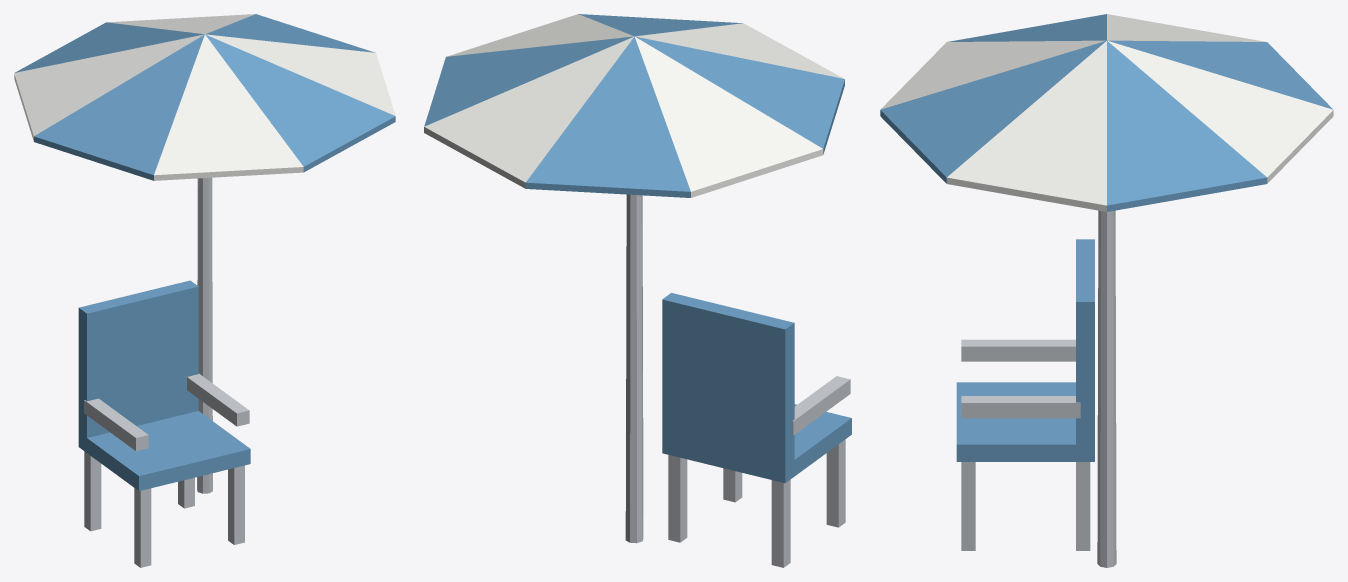
Rendered from tennis-club-and-courts-players-chair-and-parasol-839ac365__33630.glb.
3 renders of one model, left to right at view 1: azimuth 30°, elevation 25°; view 2: azimuth 150°, elevation 25°; view 3: azimuth 270°, elevation 25°, orthographic. The views are drawn at different scales.
Parts seen in each view (by area): view 1: players-chair-and-parasol; view 2: players-chair-and-parasol; view 3: players-chair-and-parasol.
Part boxes in pixels (x1=…): players-chair-and-parasol: x1=14, y1=14, x2=395, y2=567; players-chair-and-parasol: x1=424, y1=14, x2=851, y2=567; players-chair-and-parasol: x1=880, y1=14, x2=1333, y2=567.
Size of the model in its own units: 1.9 by 2.42 by 1.9.
